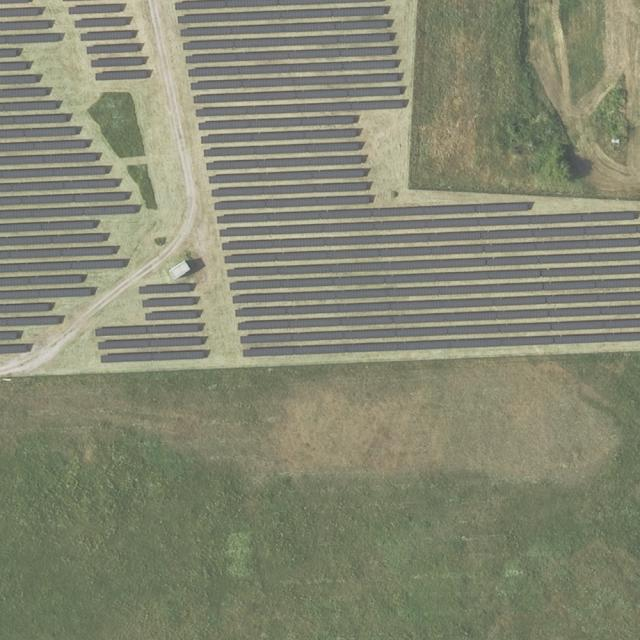PV: (0, 0, 135, 355), (94, 283, 205, 364), (69, 4, 147, 80)
